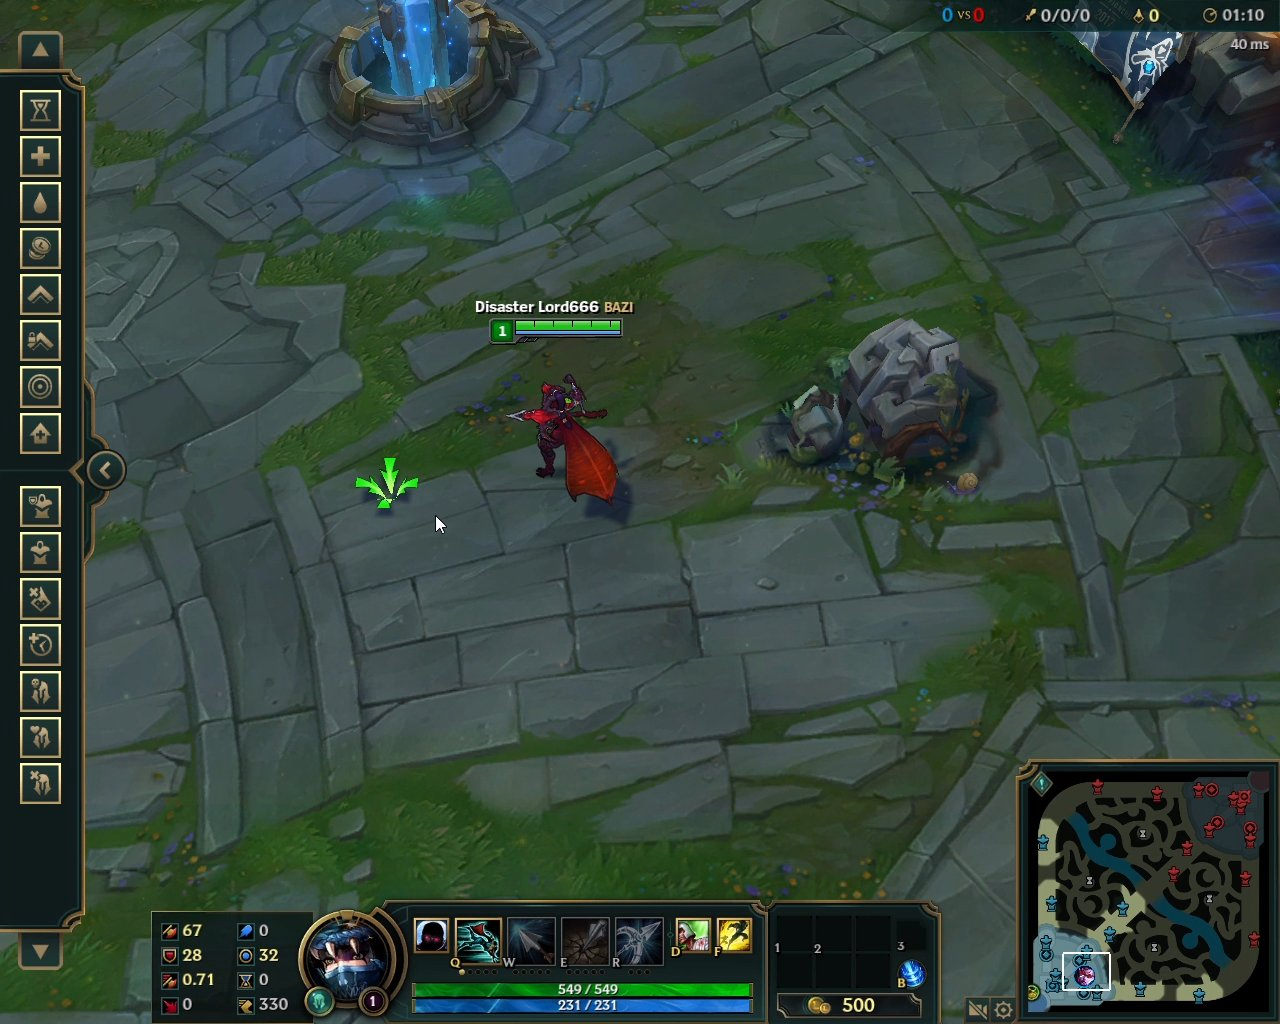Vayne: (501, 367, 627, 511)
